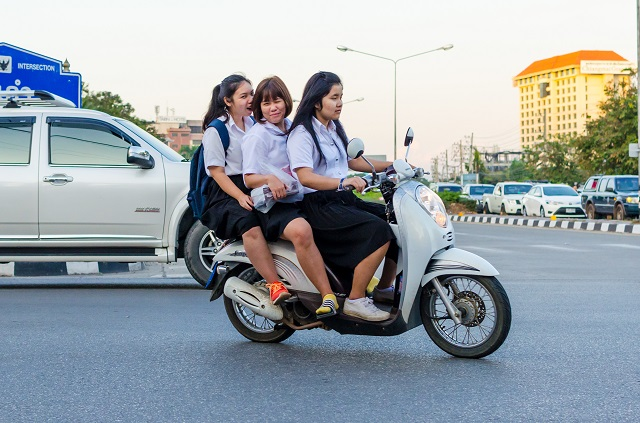bike: (209, 162, 511, 358)
car: (2, 108, 195, 264), (583, 176, 640, 219), (521, 184, 584, 217), (483, 182, 524, 214)
person: (291, 72, 387, 258), (193, 76, 256, 260), (246, 76, 302, 239)
